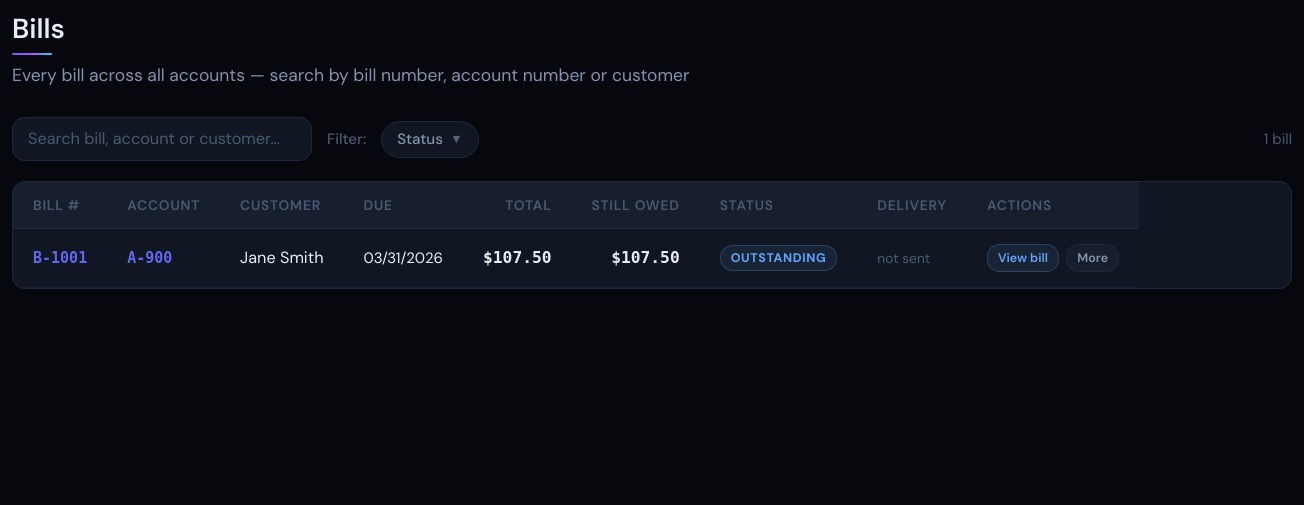
it: Bills page — bill document actions › puts everything that writes in the More menu, money first
Click the button with aria-label "More actions" at (1093, 258), box 1066,244 -> 1119,272
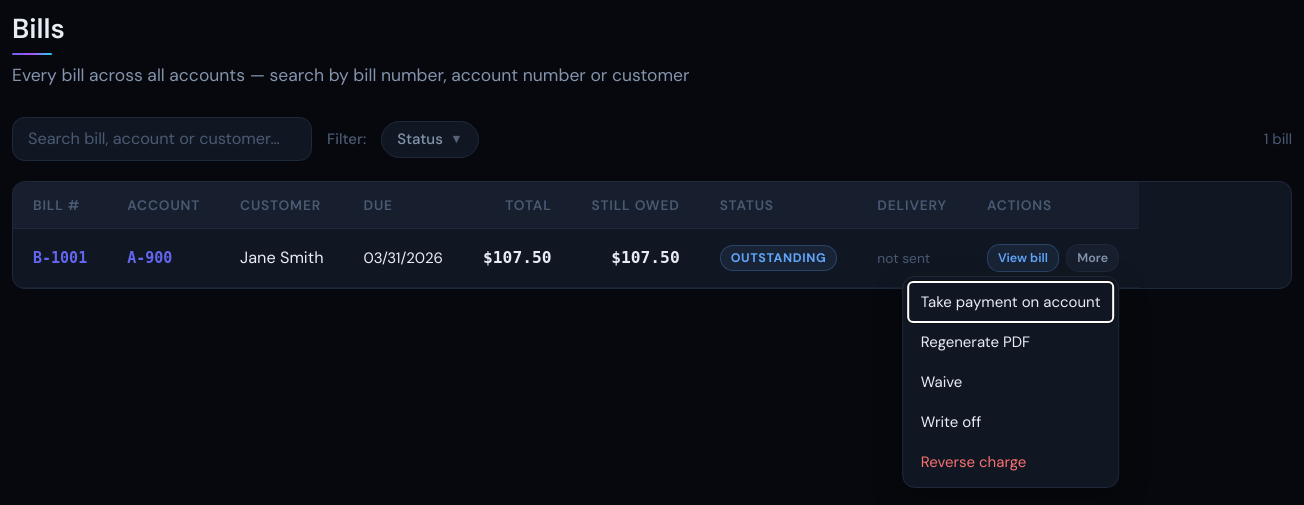
Now the menu is shown, box 902,276 -> 1119,488
Now the menu items read "Take payment on account", "Regenerate PDF", "Waive", "Write off", "Reverse charge", in this order, box 908,282 -> 1113,322; 908,322 -> 1113,362; 908,362 -> 1113,402; 908,402 -> 1113,442; 908,442 -> 1113,482
